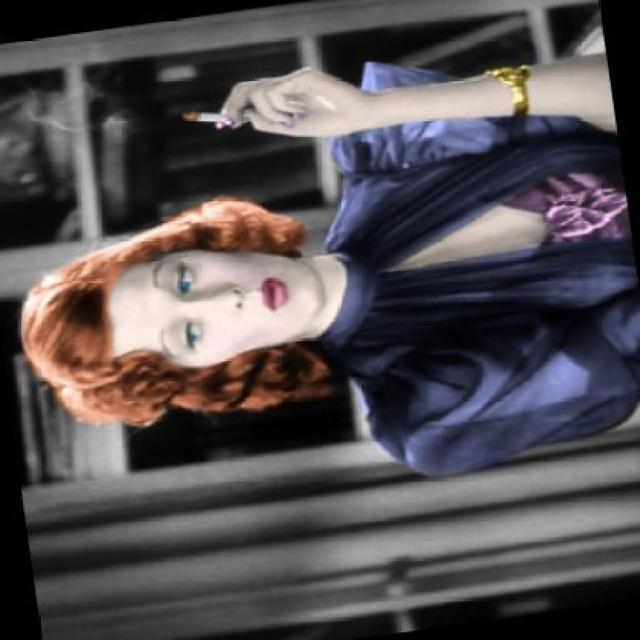smoke: (179, 101, 232, 127)
